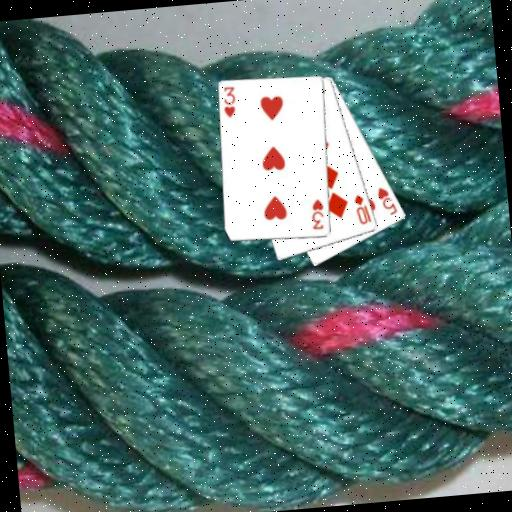10D: (352, 191, 374, 227)
3H: (220, 84, 239, 120), (308, 196, 327, 231)
5H: (374, 184, 400, 219)
